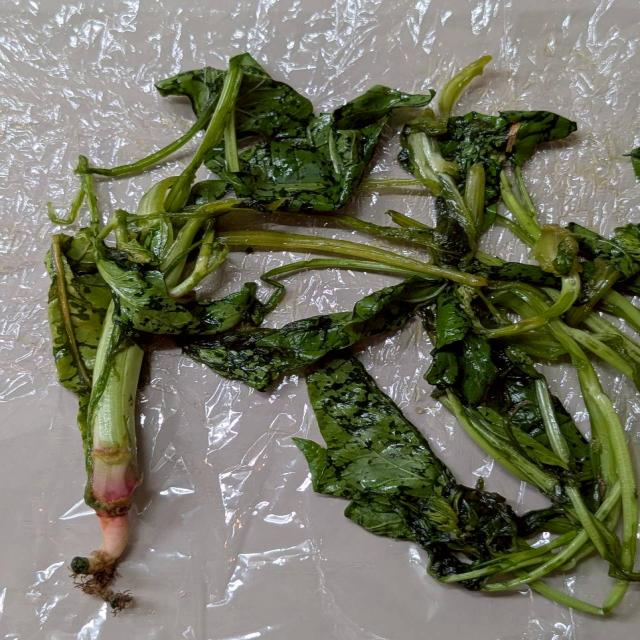rotten spinach: (18, 45, 640, 624), (147, 48, 626, 408), (278, 339, 603, 607), (78, 189, 430, 416)
